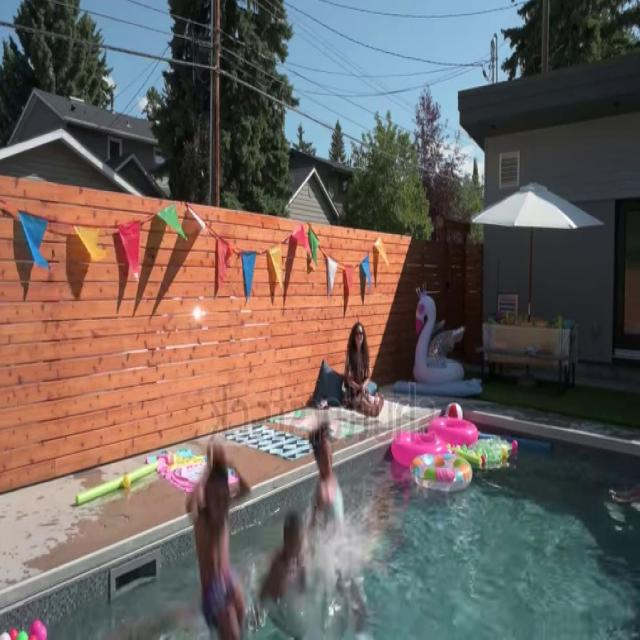adult: (336, 324, 382, 411)
